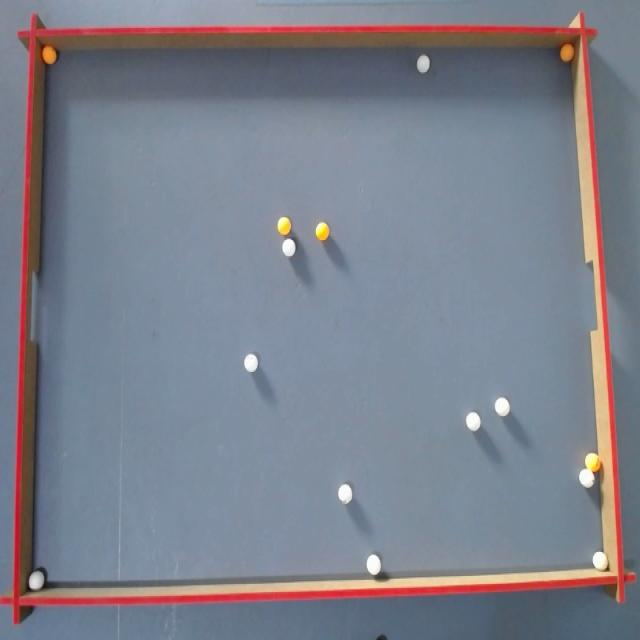orange_ball: (585, 452, 600, 472), (42, 46, 57, 64), (560, 44, 574, 62), (315, 222, 329, 240), (278, 217, 290, 234)
white_ball: (28, 570, 45, 591), (366, 554, 381, 575), (593, 551, 608, 571), (579, 468, 594, 488), (466, 412, 481, 431), (338, 484, 352, 504), (244, 353, 258, 372), (495, 398, 509, 417), (282, 238, 296, 256), (416, 55, 429, 73)
